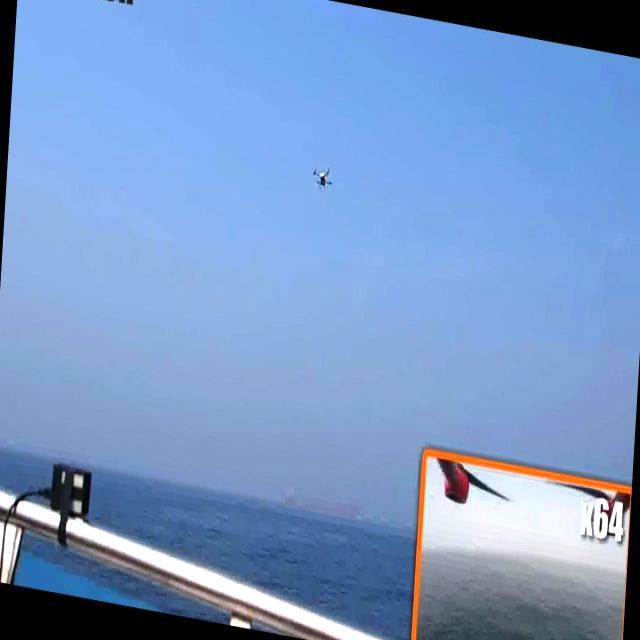drone: (312, 162, 334, 195)
